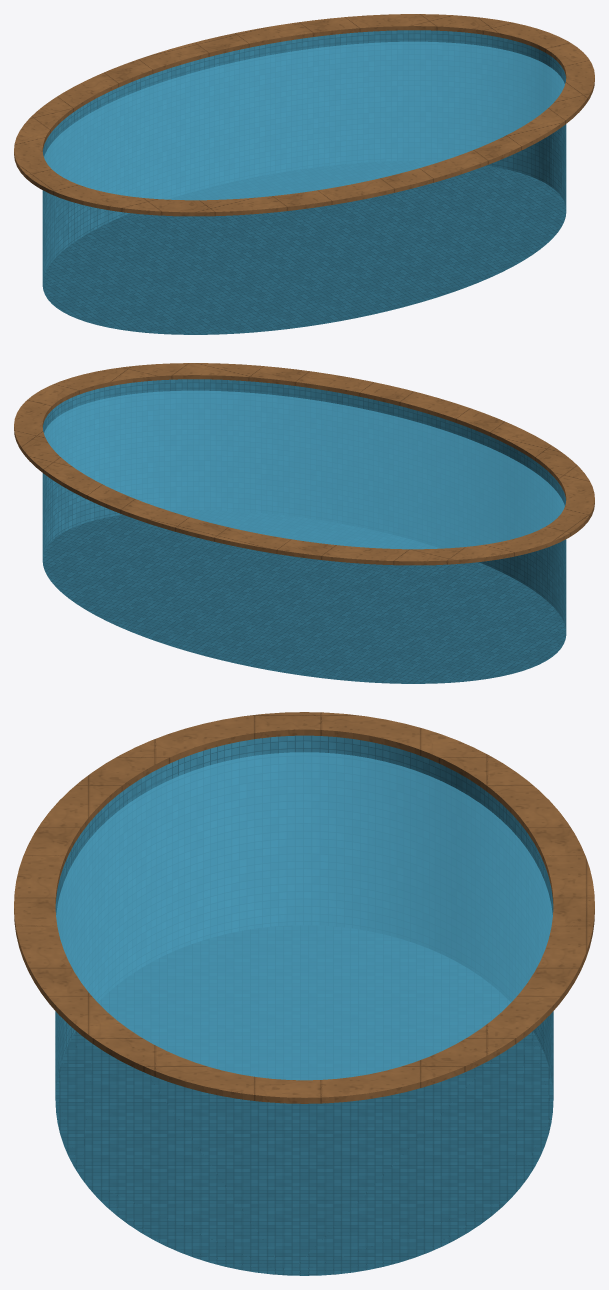
File: ovale-5x3.glb
3 renders of one model, top to bottom at view 1: azimuth 30°, elevation 25°; view 2: azimuth 150°, elevation 25°; view 3: azimuth 270°, elevation 25°, orthographic. The views are drawn at different scales.
Visible parts, largest first — view 1: bassin, fond, eau, margelle; view 2: bassin, fond, eau, margelle; view 3: eau, fond, bassin, margelle.
Boxes of the visible parts, x1=… form: bassin: x1=42, y1=30, x2=566, y2=281; fond: x1=42, y1=161, x2=566, y2=334; eau: x1=44, y1=41, x2=564, y2=200; margelle: x1=14, y1=14, x2=594, y2=216; bassin: x1=42, y1=379, x2=566, y2=630; fond: x1=42, y1=510, x2=566, y2=683; eau: x1=44, y1=390, x2=564, y2=549; margelle: x1=14, y1=363, x2=594, y2=565; eau: x1=56, y1=752, x2=552, y2=1080; fond: x1=55, y1=925, x2=553, y2=1275; bassin: x1=55, y1=735, x2=553, y2=1100; margelle: x1=14, y1=712, x2=594, y2=1103.
Bounding box in the file's own units: 5.5 × 1.3 × 3.5.
4 materials, 3 textured.
